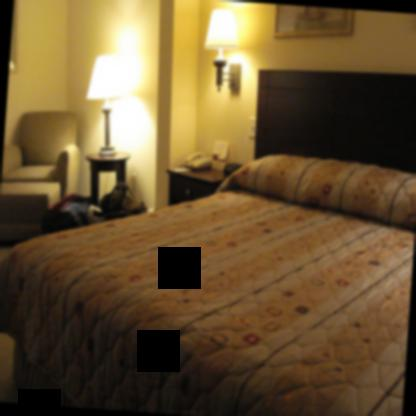backpack: (40, 190, 94, 236), (93, 182, 148, 221)
